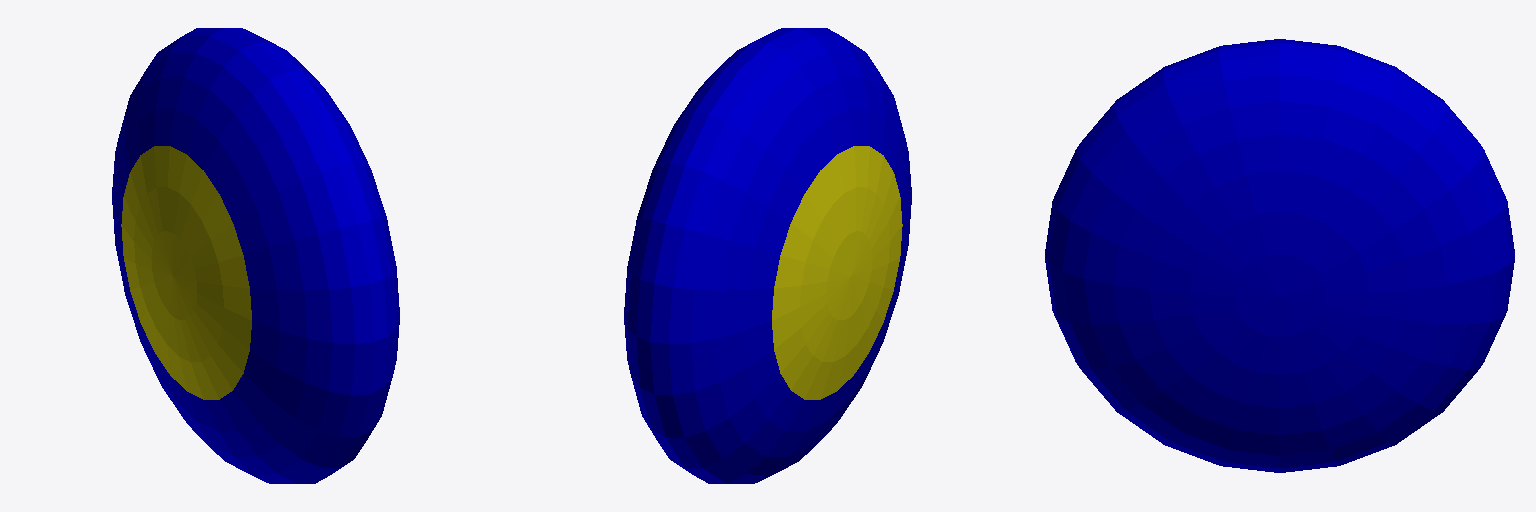
File: COIN.obj
3 renders of one model, left to right at view 1: azimuth 30°, elevation 25°; view 2: azimuth 150°, elevation 25°; view 3: azimuth 270°, elevation 25°, orthographic.
Parts seen in each view (by area): view 1: Sphere; view 2: Sphere; view 3: Sphere.
Boxes of the visible parts, box(x1,y1,x2,y2) form: Sphere: box(112, 28, 399, 483); Sphere: box(624, 28, 911, 483); Sphere: box(1045, 39, 1514, 472).
Size of the model in its own units: 0.3264 by 0.8 by 0.8.